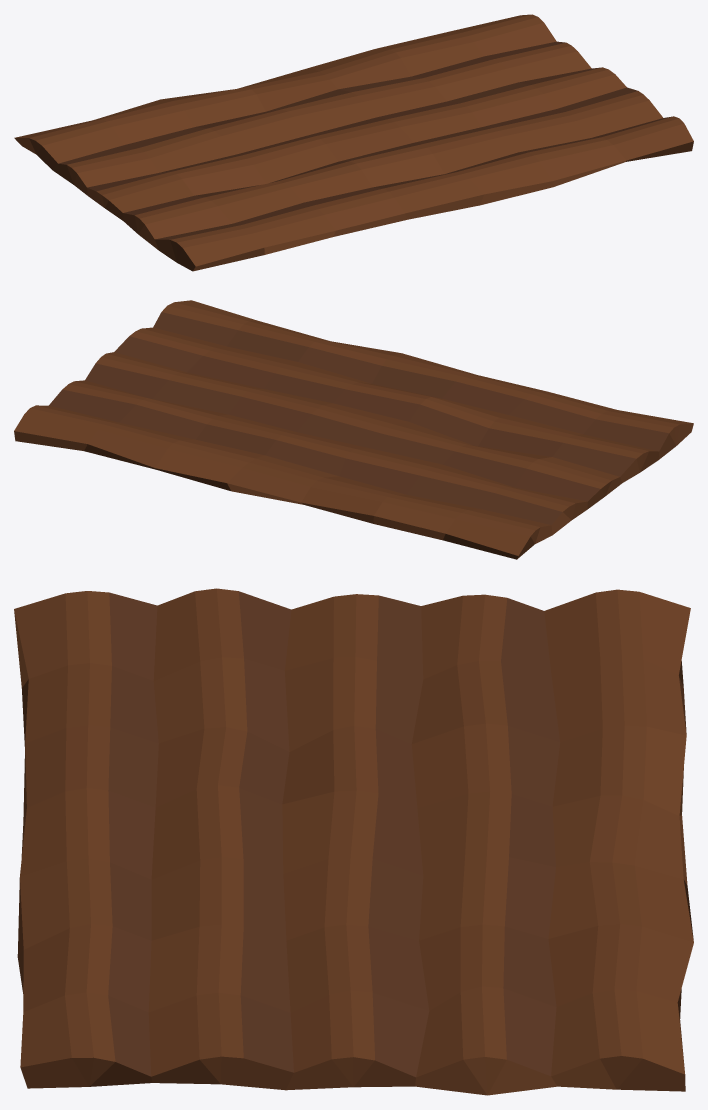
Rendered from ArableLandTile_2.fbx.
3 renders of one model, top to bottom at view 1: azimuth 30°, elevation 25°; view 2: azimuth 150°, elevation 25°; view 3: azimuth 270°, elevation 25°, orthographic. The views are drawn at different scales.
Parts seen in each view (by area): view 1: ArableLandTile_2; view 2: ArableLandTile_2; view 3: ArableLandTile_2.
Boxes of the visible parts, x1,y1,x2,y2 form: ArableLandTile_2: (14, 14, 693, 271); ArableLandTile_2: (14, 300, 693, 559); ArableLandTile_2: (14, 588, 693, 1095).
Size of the model in its own units: 1010 by 41.59 by 617.
